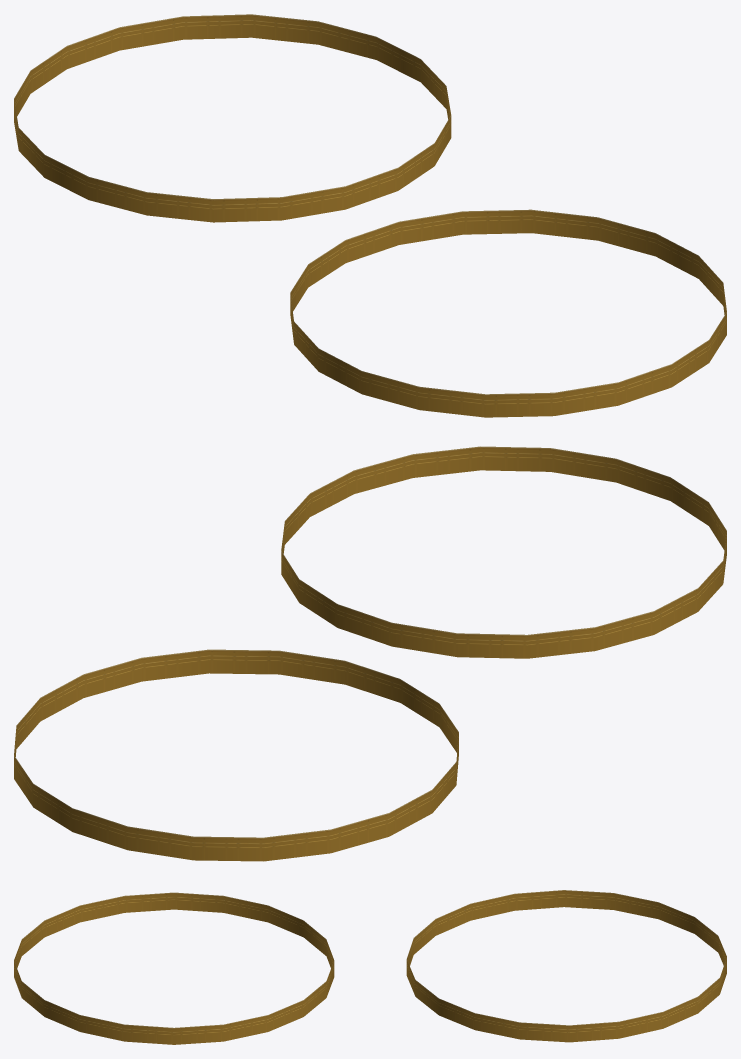
Rendered from langan_mol.FBX.
3 renders of one model, top to bottom at view 1: azimuth 30°, elevation 25°; view 2: azimuth 150°, elevation 25°; view 3: azimuth 270°, elevation 25°, orthographic. The views are drawn at different scales.
Parts seen in each view (by area): view 1: langan; view 2: langan; view 3: langan.
Boxes of the visible parts, left/top/right/bottom form: langan: left=14, top=14, right=726, bottom=417; langan: left=14, top=446, right=726, bottom=861; langan: left=14, top=890, right=726, bottom=1044.
Bounding box in the file's own units: 18.21 × 39.81 × 1.05.
